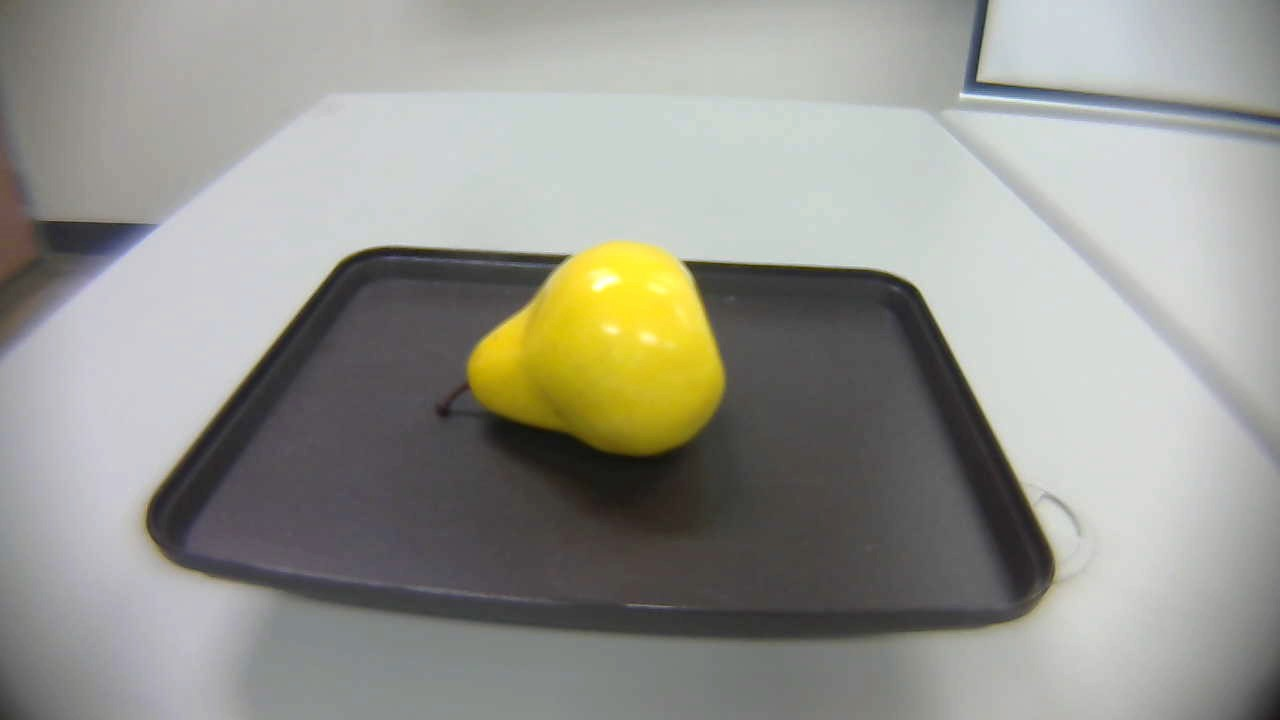yellow pear: (425, 234, 741, 469)
